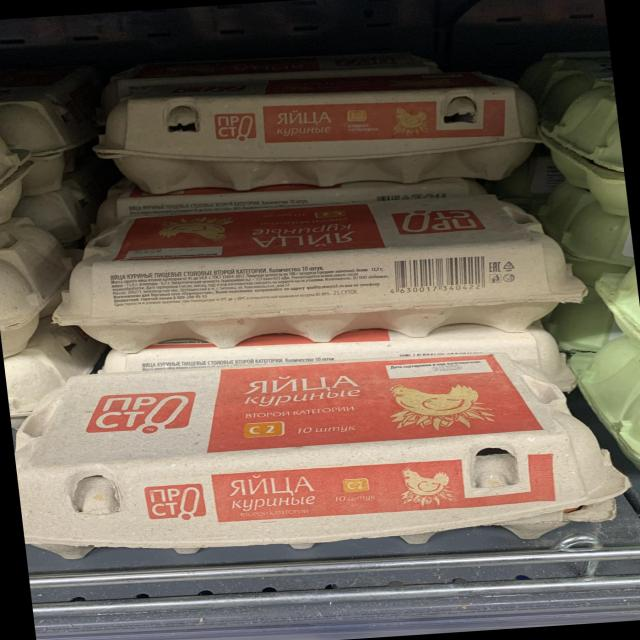organic waste: (6, 338, 628, 567), (42, 183, 587, 362), (92, 61, 546, 206)
